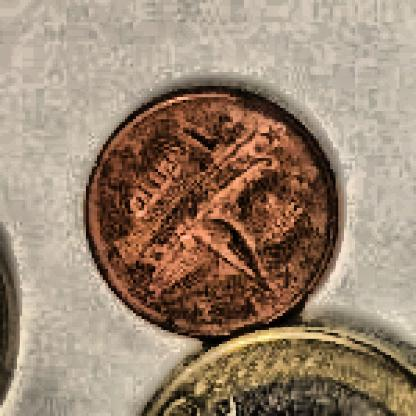coin: (84, 89, 344, 343)
